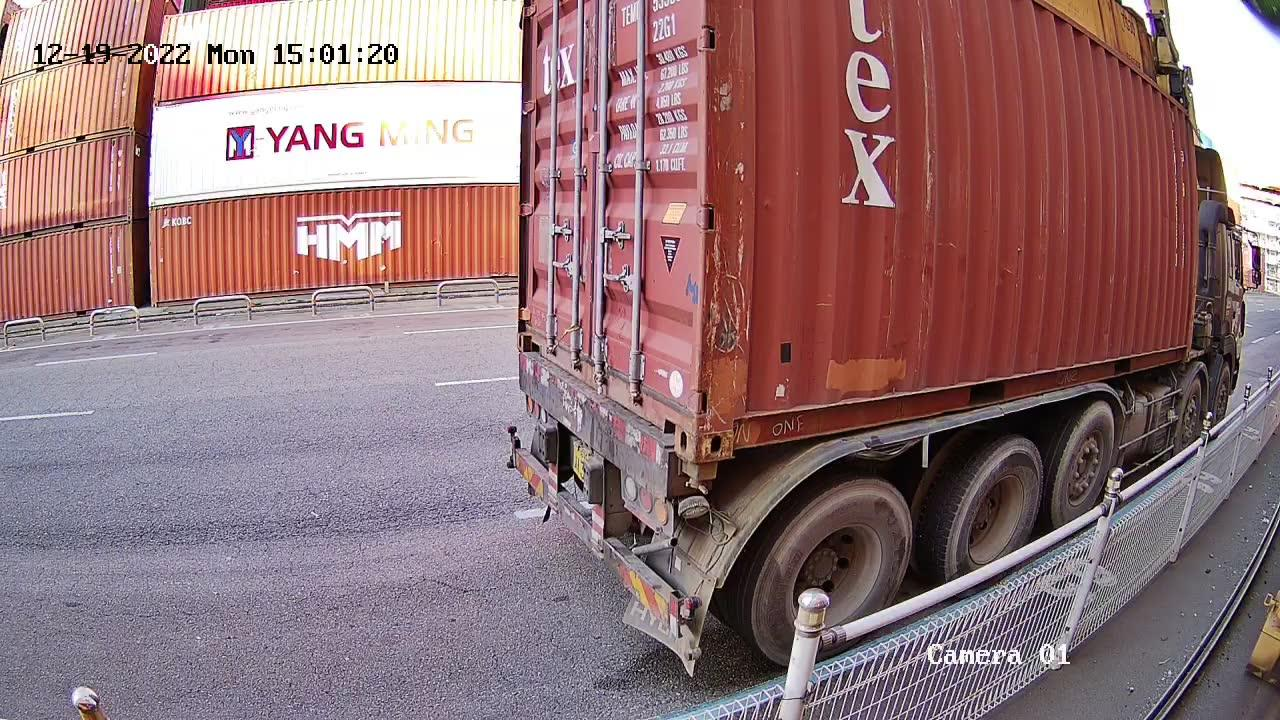Chassis: (518, 351, 679, 499)
Cone: (675, 456, 723, 495)
Hole_L: (694, 379, 763, 460), (517, 306, 553, 362)
Hole_R: (649, 364, 698, 462)
Tire: (754, 484, 910, 663), (944, 442, 1044, 576), (1055, 406, 1116, 524)
